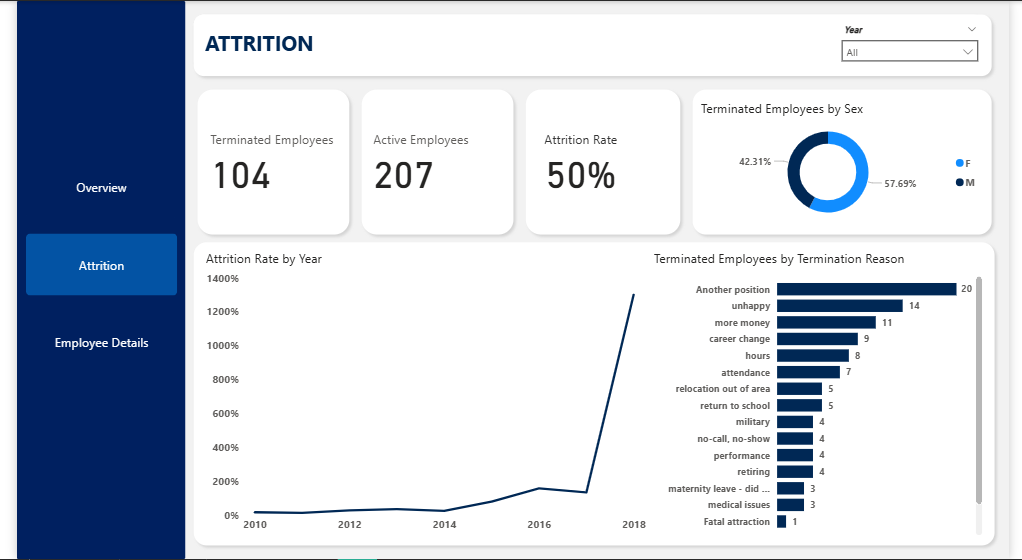

What the dashboard file says about the page in this screenshot:
{"tool":"powerbi","page":{"name":"Attrition","canvas":[1280,720],"ordinal":1},"visuals":[{"type":"slicer","fields":{"Values":["Date Table.Year"]},"box":[1054.1,25.7,195.9,60.8],"z":0},{"type":"cardVisual","fields":{"Data":["_measures.Attrition Rate"]},"box":[668.9,128.4,174.3,164.9],"z":1000},{"type":"textbox","box":[237.8,31.1,383.8,55.4],"z":2000},{"type":"cardVisual","fields":{"Data":["_measures.Active Employees"]},"box":[447.3,128.4,174.3,164.9],"z":3000},{"type":"cardVisual","fields":{"Data":["_measures.Terminated Employees"]},"box":[237.8,128.4,191.9,164.9],"z":4000},{"type":"donutChart","fields":{"Y":["_measures.Terminated Employees"],"Category":["HRDataset.Sex"]},"box":[877,128.4,373,164.9],"z":5000},{"type":"lineChart","fields":{"Y":["_measures.Attrition Rate"],"Category":["Date Table.Year","Date Table.Month Name"]},"box":[238.1,320.7,578.1,373],"z":6000},{"type":"barChart","fields":{"Y":["_measures.Terminated Employees"],"Category":["HRDataset.TermReason"]},"box":[816.2,320.7,433.5,373],"z":6001},{"type":"pageNavigator","box":[11,199.6,195.4,282.2],"z":6002}]}

Visuals, with their boxes on the page's 1280x720 design canvas (x1, y1, x2, y2). These are canvas units, not pixel positions in the 1022x560 screenshot, which may show the page scaled, cropped or inside an application window:
slicer - Date Table.Year: 1054:26:1250:86
cardVisual - _measures.Attrition Rate: 669:128:843:293
textbox: 238:31:622:86
cardVisual - _measures.Active Employees: 447:128:622:293
cardVisual - _measures.Terminated Employees: 238:128:430:293
donutChart - _measures.Terminated Employees x HRDataset.Sex: 877:128:1250:293
lineChart - _measures.Attrition Rate x Date Table.Year: 238:321:816:694
barChart - _measures.Terminated Employees x HRDataset.TermReason: 816:321:1250:694
pageNavigator: 11:200:206:482
